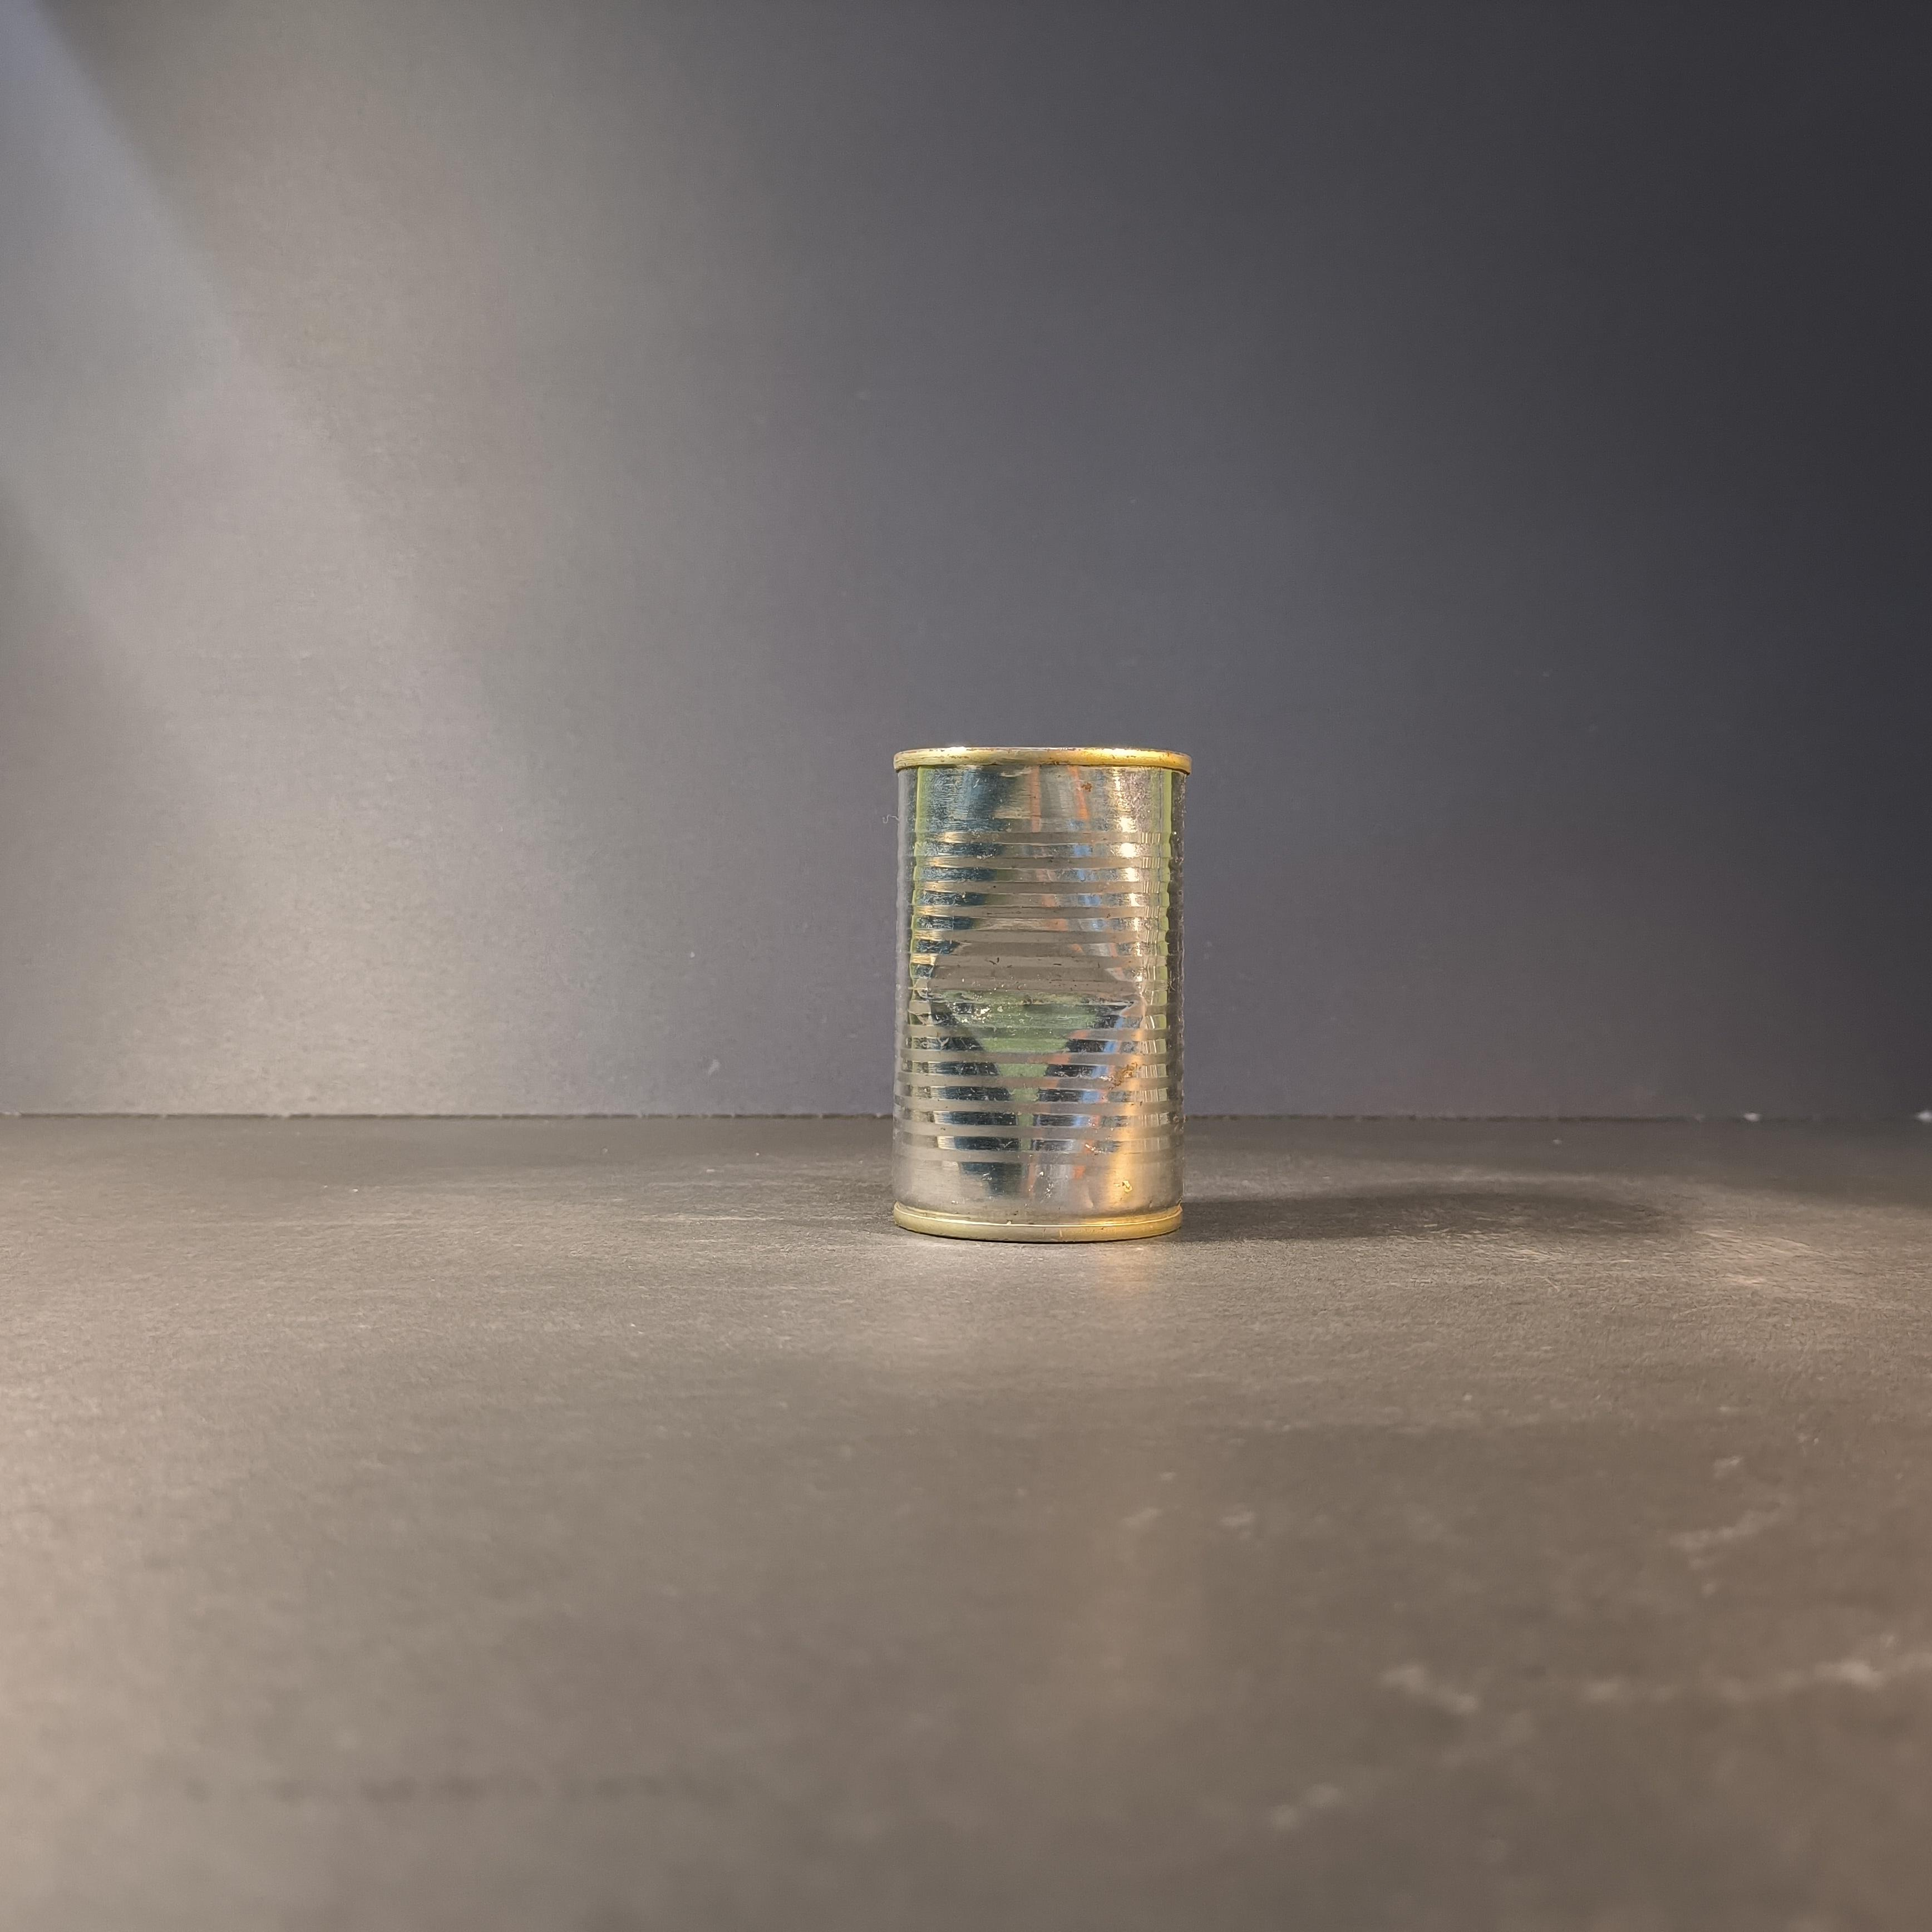Minor Defect: (890, 741, 1196, 1248)
